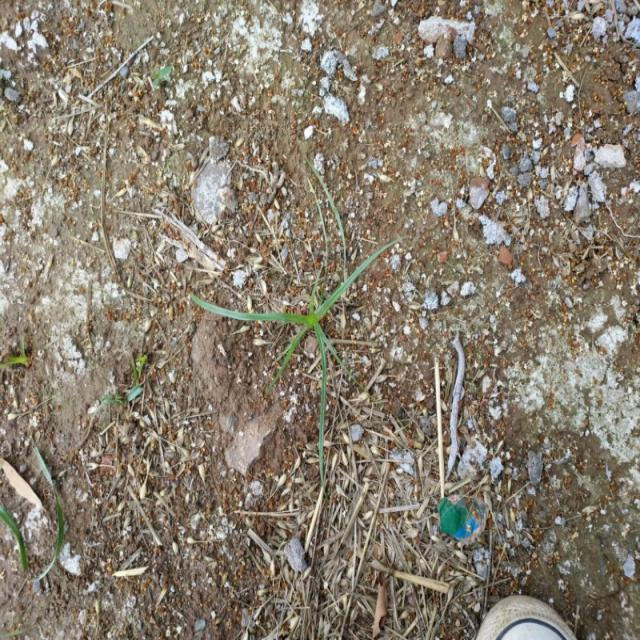sedge: (178, 214, 420, 497)
